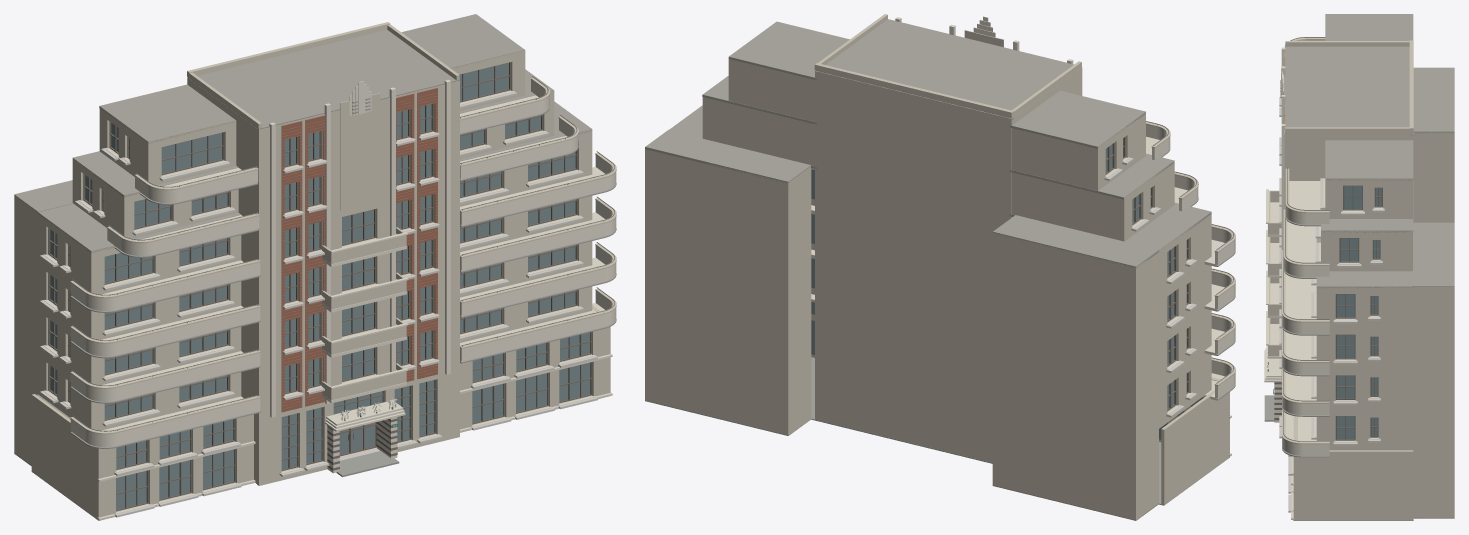
The model's file is jingan-eddington-house-raw.glb.
3 renders of one model, left to right at view 1: azimuth 30°, elevation 25°; view 2: azimuth 150°, elevation 25°; view 3: azimuth 270°, elevation 25°, orthographic. The views are drawn at different scales.
Parts seen in each view (by area): view 1: 爱登公寓（常德公寓）; view 2: 爱登公寓（常德公寓）; view 3: 爱登公寓（常德公寓）.
Boxes of the visible parts, x1,y1,x2,y2 form: 爱登公寓（常德公寓）: (14, 14, 616, 520); 爱登公寓（常德公寓）: (645, 14, 1235, 520); 爱登公寓（常德公寓）: (1264, 14, 1454, 520).
Size of the model in its own units: 41.58 by 28.75 by 14.5.
